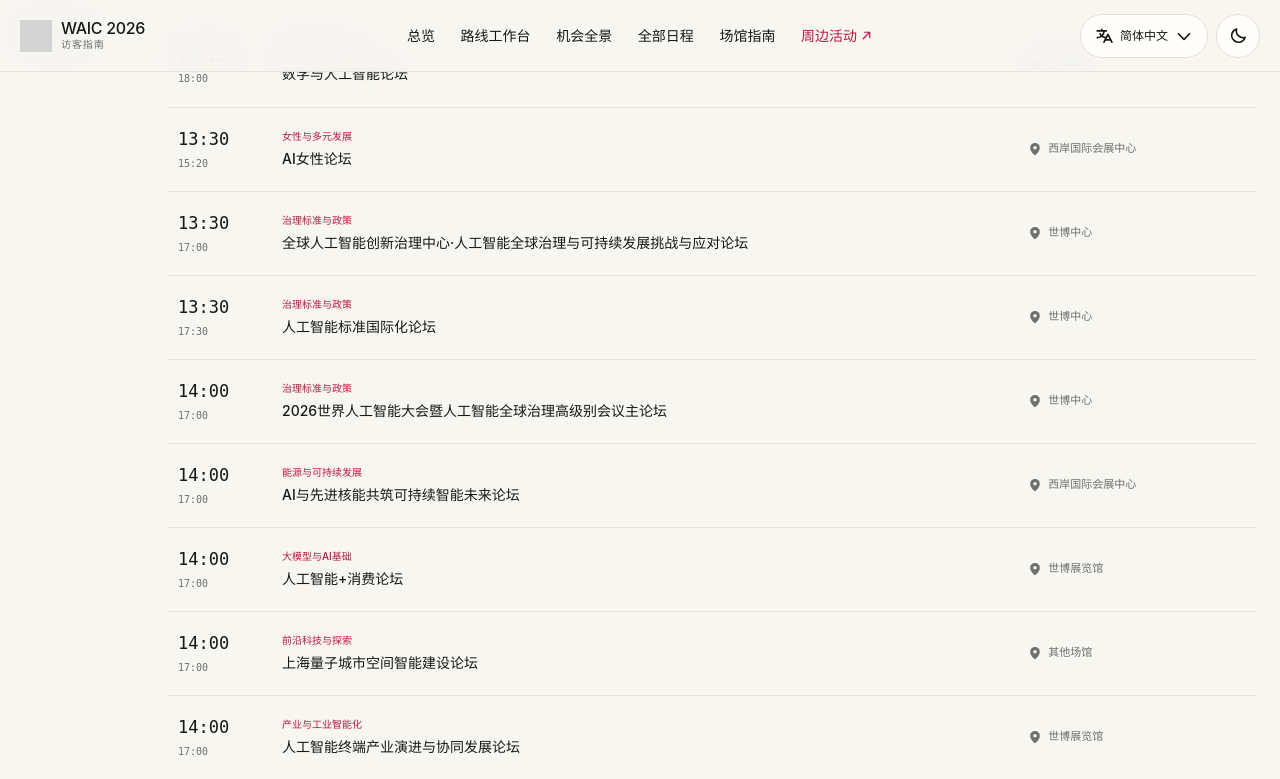
Test: event explorer › opens an accessible bilingual detail sheet, toggles the route, and restores focus
(page scrolled)
Click the button with aria-label "查看活动：2026世界人工智能大会暨人工智能全球治理高级别会议主论坛" at (204, 391), box [168,359,1256,443]
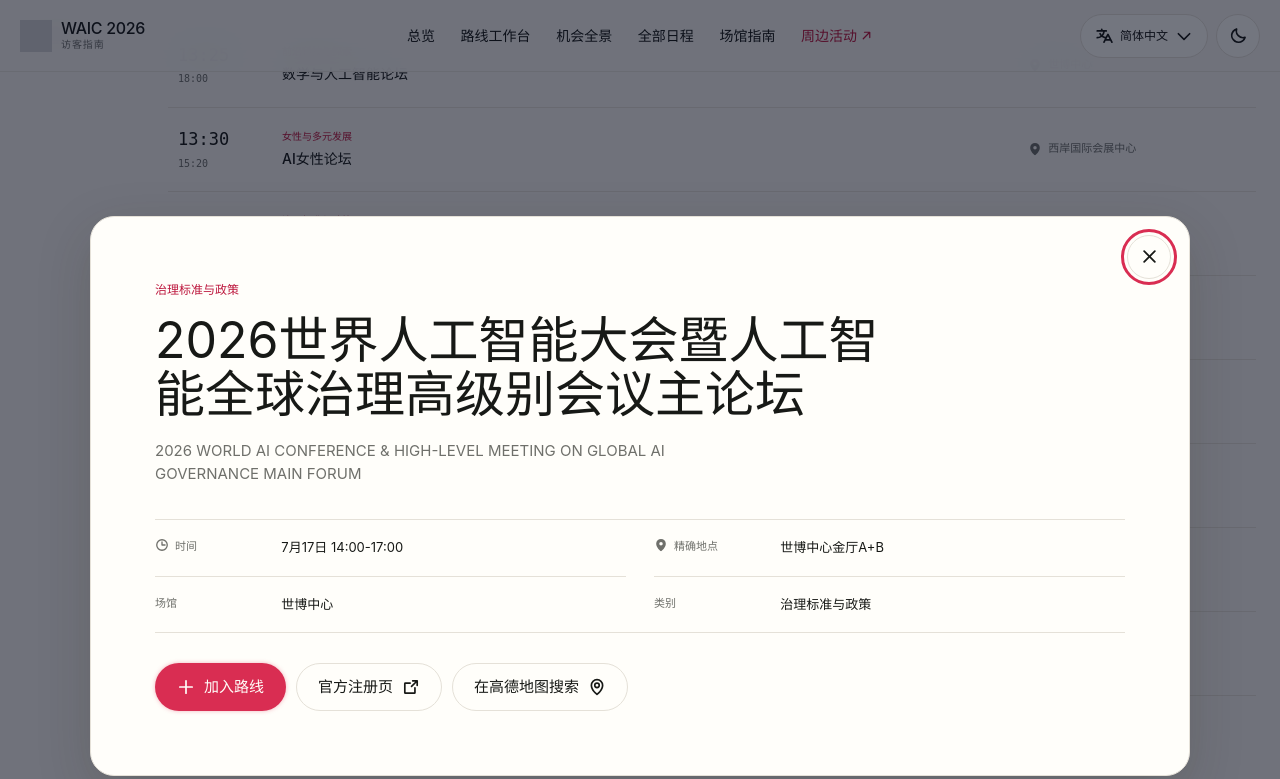
Expected: the dialog "2026世界人工智能大会暨人工智能全球治理高级别会议主论坛" is shown
Expected: the text "2026 WORLD AI CONFERENCE & HIGH-LEVEL MEETING ON GLOBAL AI GOVERNANCE MAIN FORUM" is shown, [155,438,742,485]
Expected: the text "世博中心金厅A+B" is shown, [780,539,884,555]
Click the button "加入路线" at (220, 687), box [155,663,286,711]
(page scrolled)
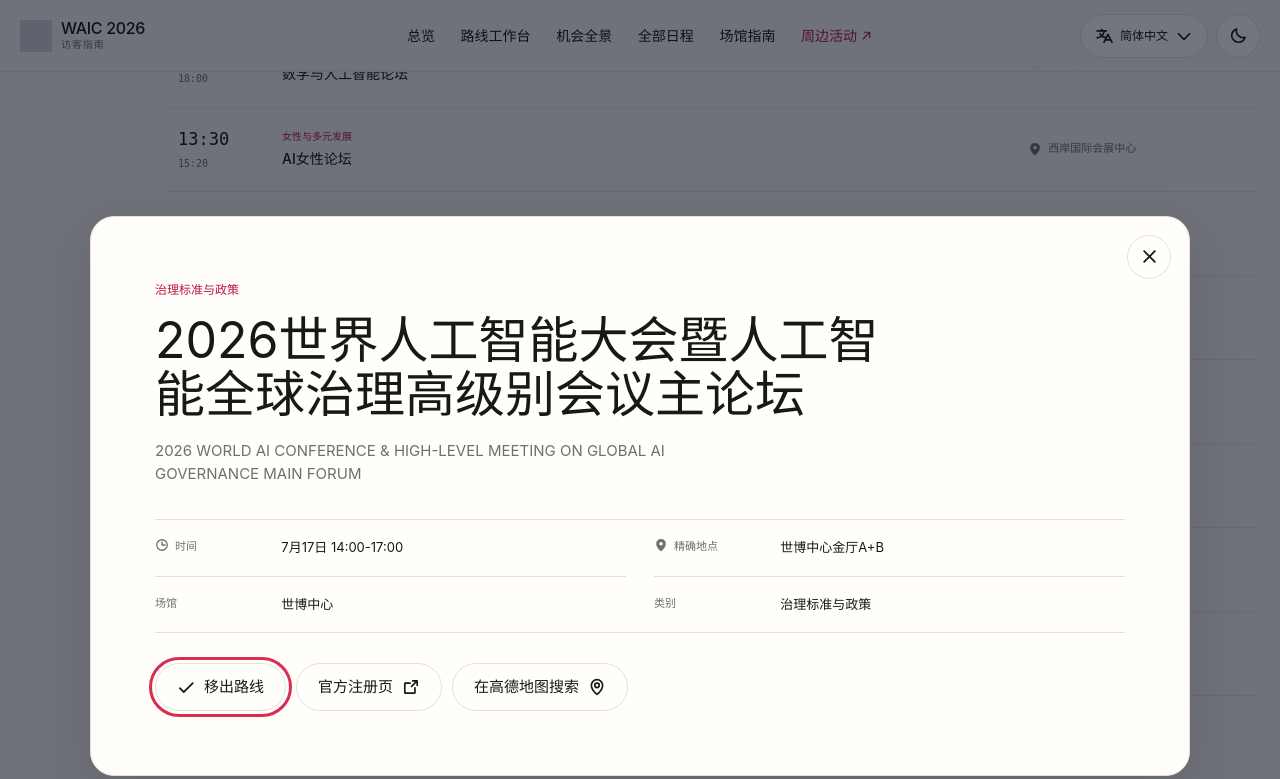
Click the button "移出路线" at (220, 687), box [155,663,286,711]
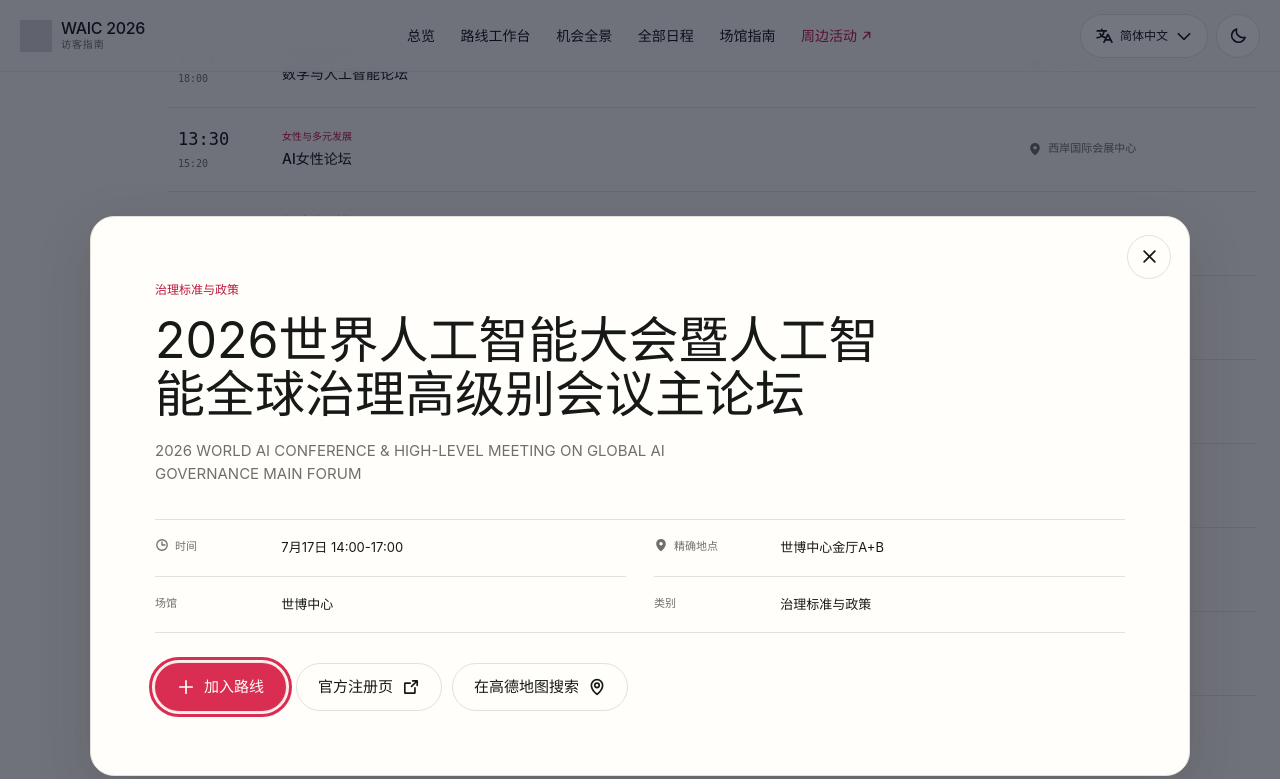
Click the button "加入路线" at (220, 687), box [155,663,286,711]
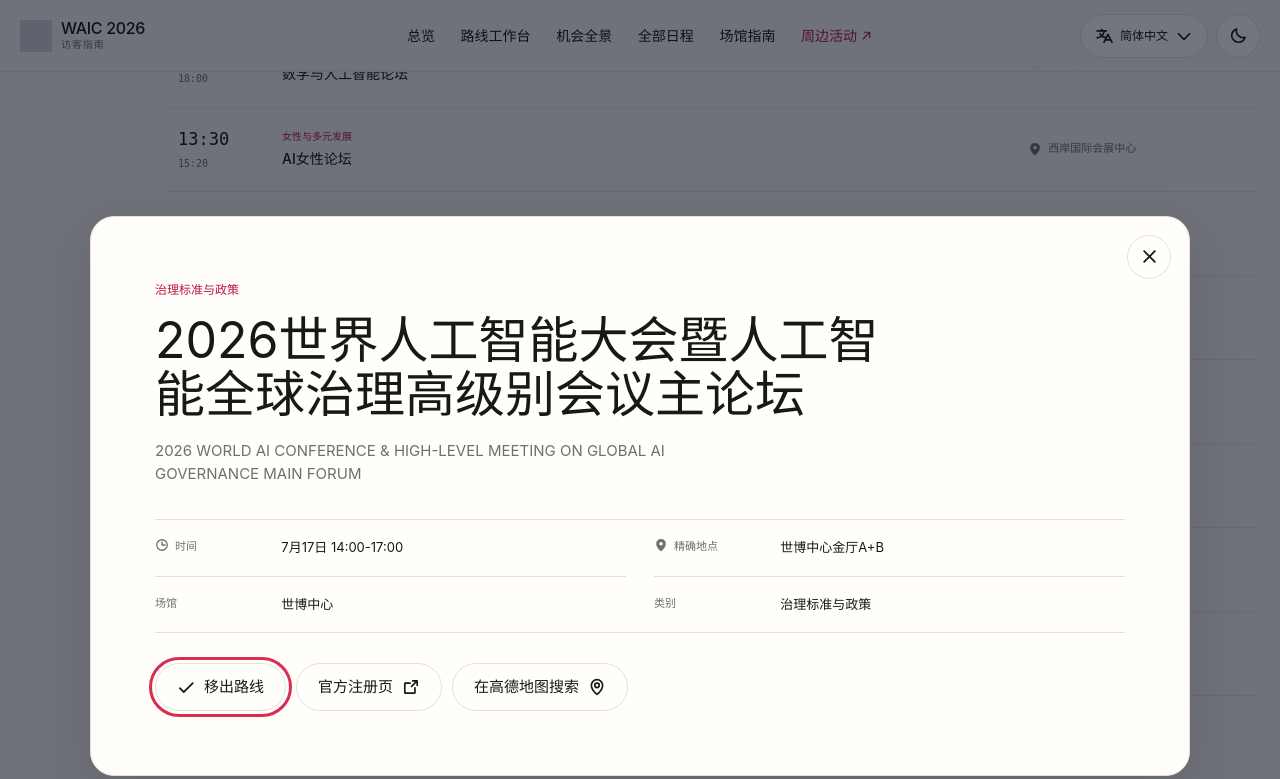
Press Escape
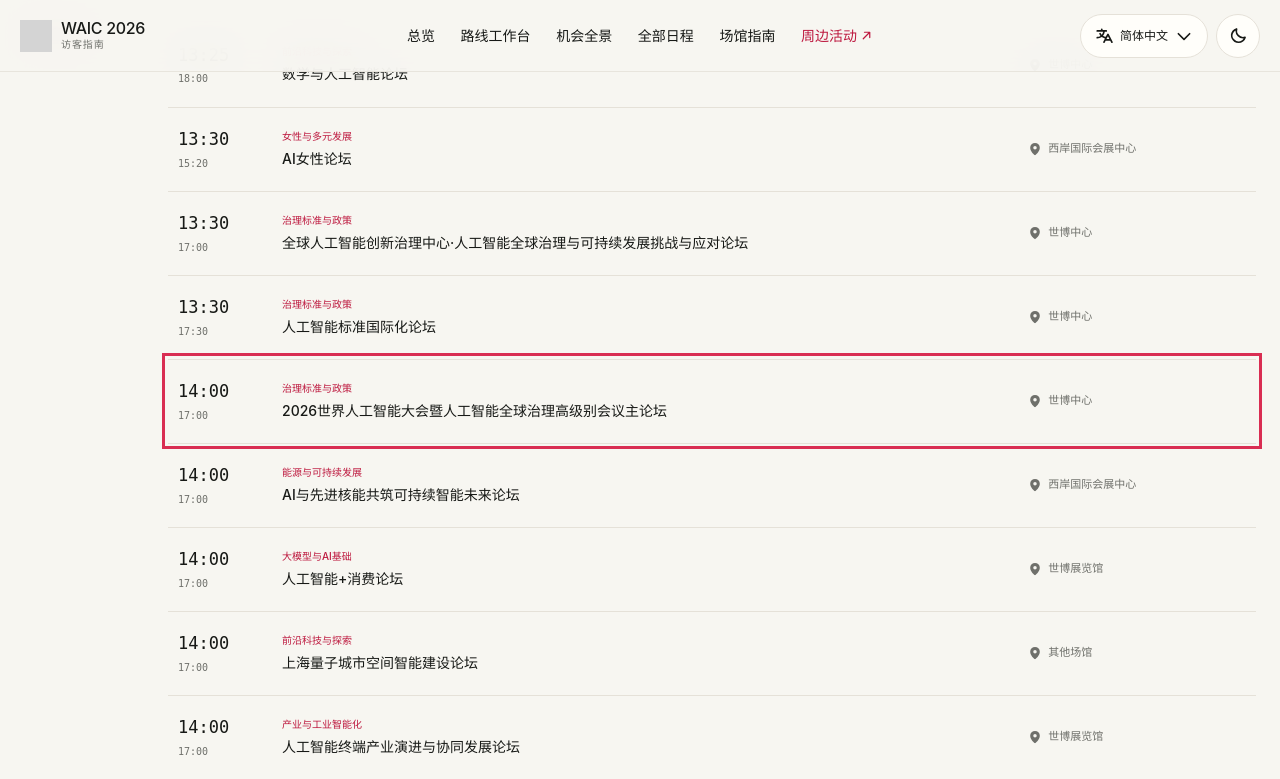
Expected: the dialog is gone
